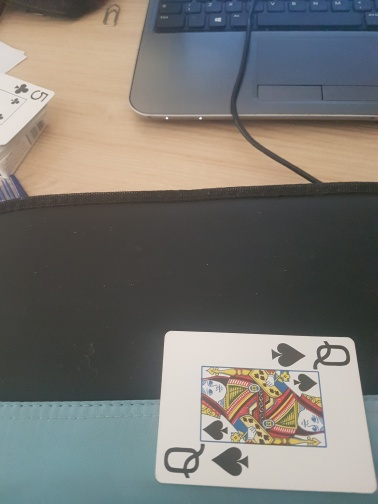queen: (154, 331, 378, 493)
